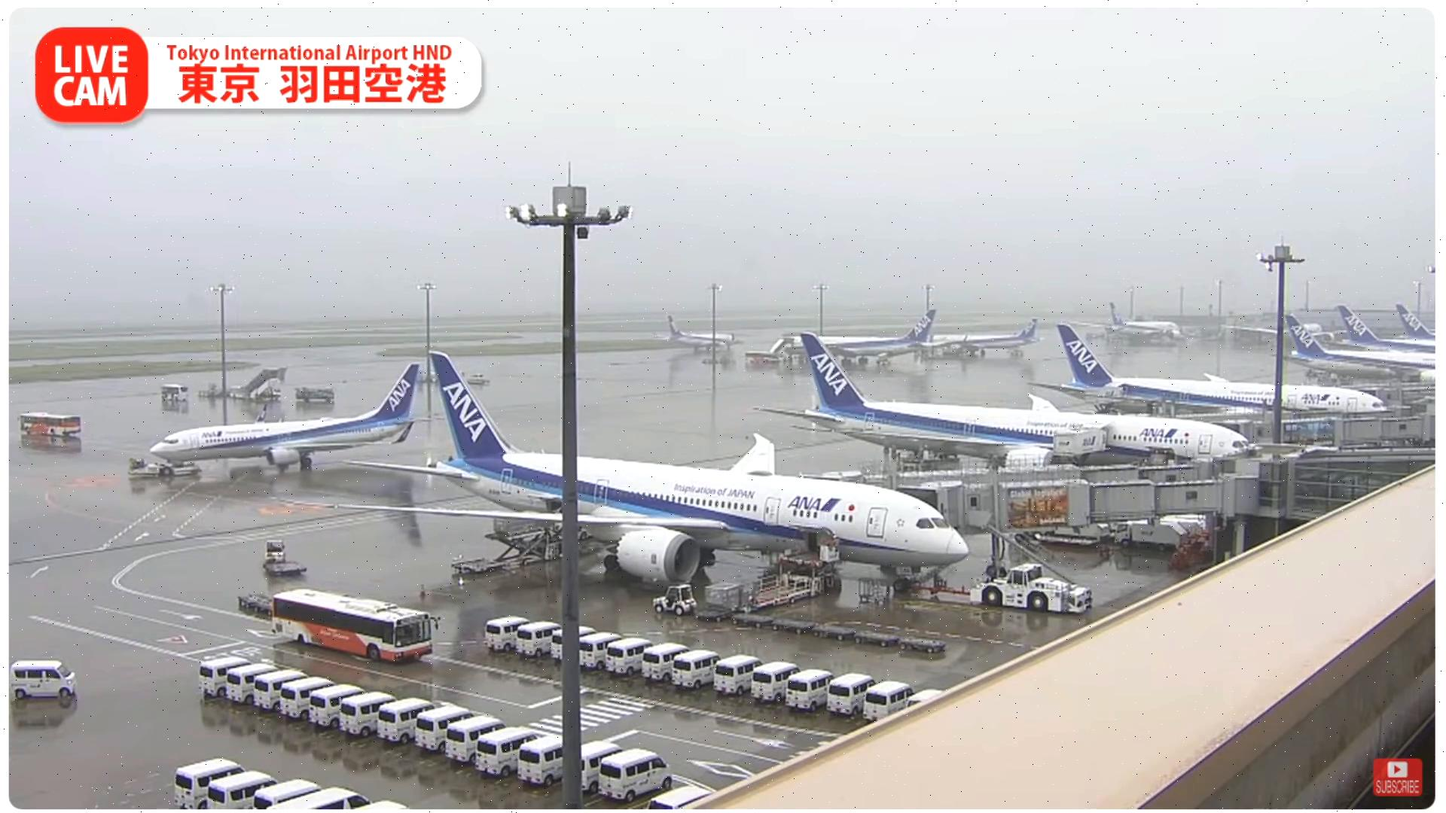APS: (968, 562, 1094, 614)
Aerobridge: (892, 474, 1261, 535), (796, 455, 1210, 487)
Airplane: (270, 351, 970, 592)
Dolly: (693, 601, 947, 653), (264, 559, 307, 576)
JCPL: (726, 552, 838, 607), (447, 522, 563, 573)
Tractor: (653, 583, 701, 615), (265, 539, 286, 562)
Window: (1292, 458, 1433, 516)
